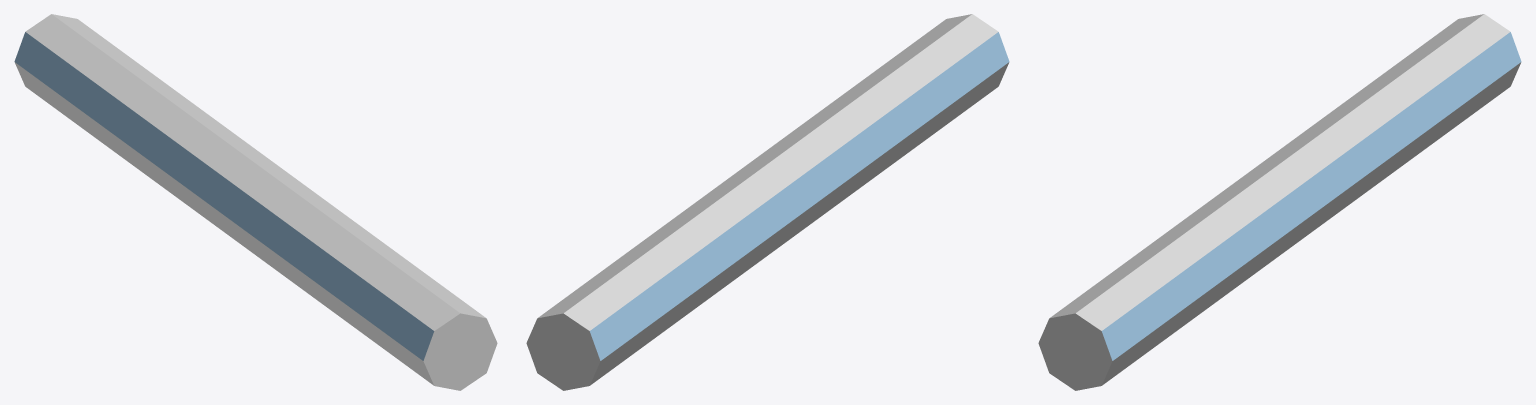
File: trumpet_2.fbx
3 renders of one model, left to right at view 1: azimuth 30°, elevation 25°; view 2: azimuth 150°, elevation 25°; view 3: azimuth 330°, elevation 25°, orthographic.
Visible parts, largest first — view 1: Cylinder_14; view 2: Cylinder_14; view 3: Cylinder_14.
Boxes of the visible parts, box(x1,y1,x2,y2) form: Cylinder_14: box(14, 14, 497, 390); Cylinder_14: box(526, 14, 1009, 390); Cylinder_14: box(1038, 14, 1521, 390).
Bounding box in the file's own units: 25.31 × 25.31 × 242.
